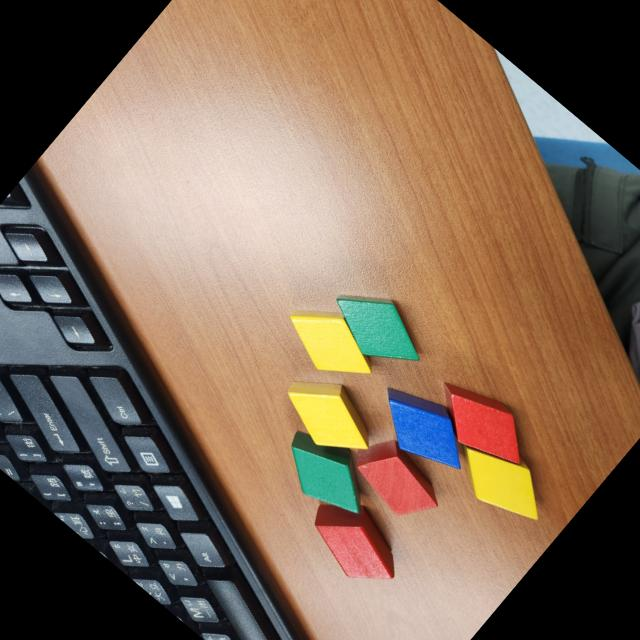blue: (360, 369, 483, 486)
green: (266, 414, 388, 530), (317, 270, 437, 385)
red: (419, 365, 543, 482), (294, 484, 416, 600), (338, 423, 452, 532)
yellow: (272, 288, 390, 400), (271, 361, 386, 472), (445, 428, 561, 538)
